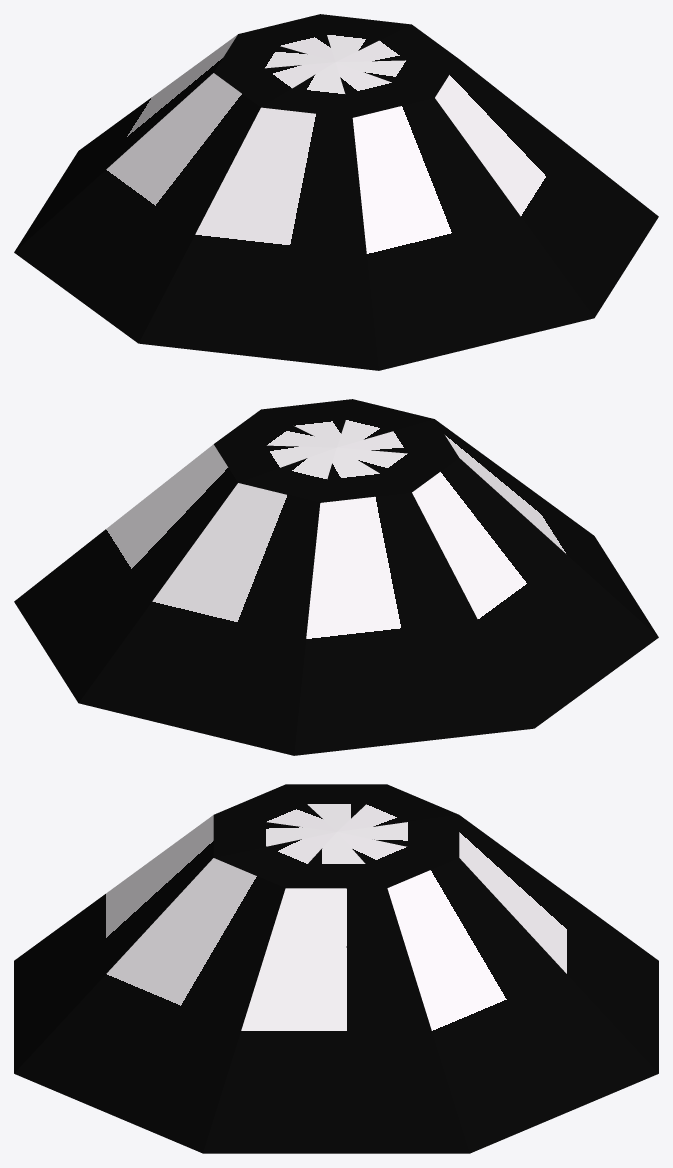
File: separator_spinner.obj
The picture shows the model from 3 angles, top to bottom: view 1: azimuth 30°, elevation 25°; view 2: azimuth 150°, elevation 25°; view 3: azimuth 270°, elevation 25°; orthographic projection. The views are drawn at different scales.
Parts seen in each view (by area): view 1: spinner; view 2: spinner; view 3: spinner.
Part boxes in pixels (x1=…): spinner: x1=14, y1=14, x2=658, y2=370; spinner: x1=14, y1=399, x2=658, y2=755; spinner: x1=14, y1=784, x2=658, y2=1153.
Size of the model in its own units: 2.62 by 0.8308 by 2.62.
